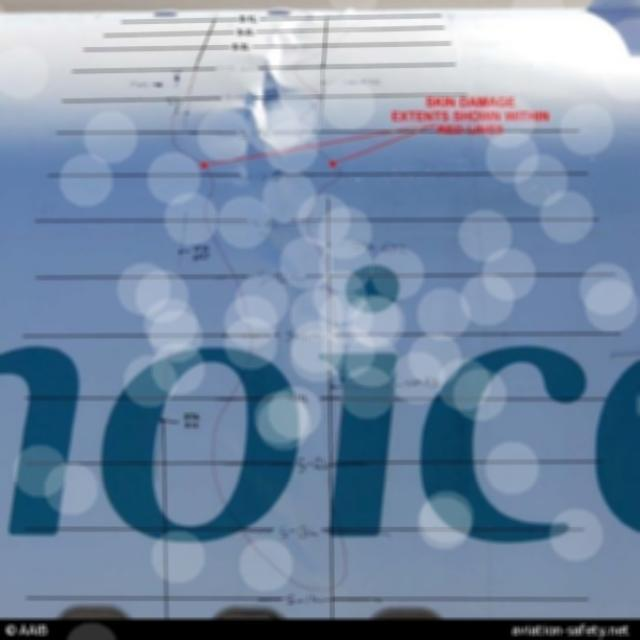dent: (254, 28, 294, 92)
